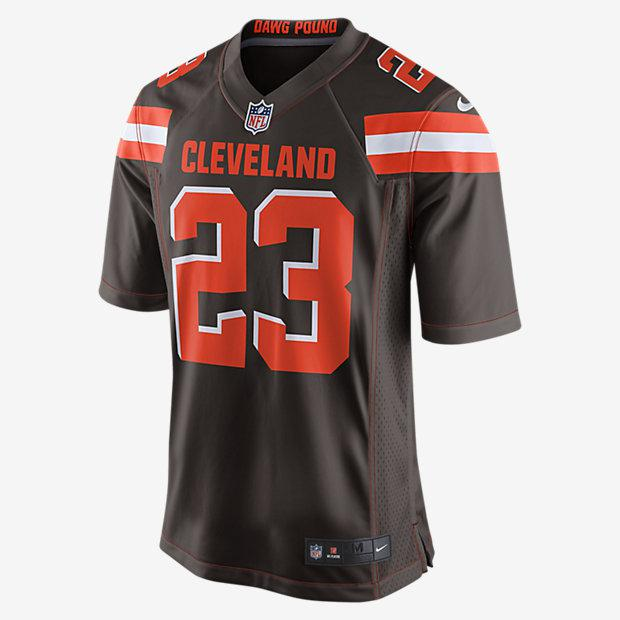teeshirt: (71, 8, 541, 608)
